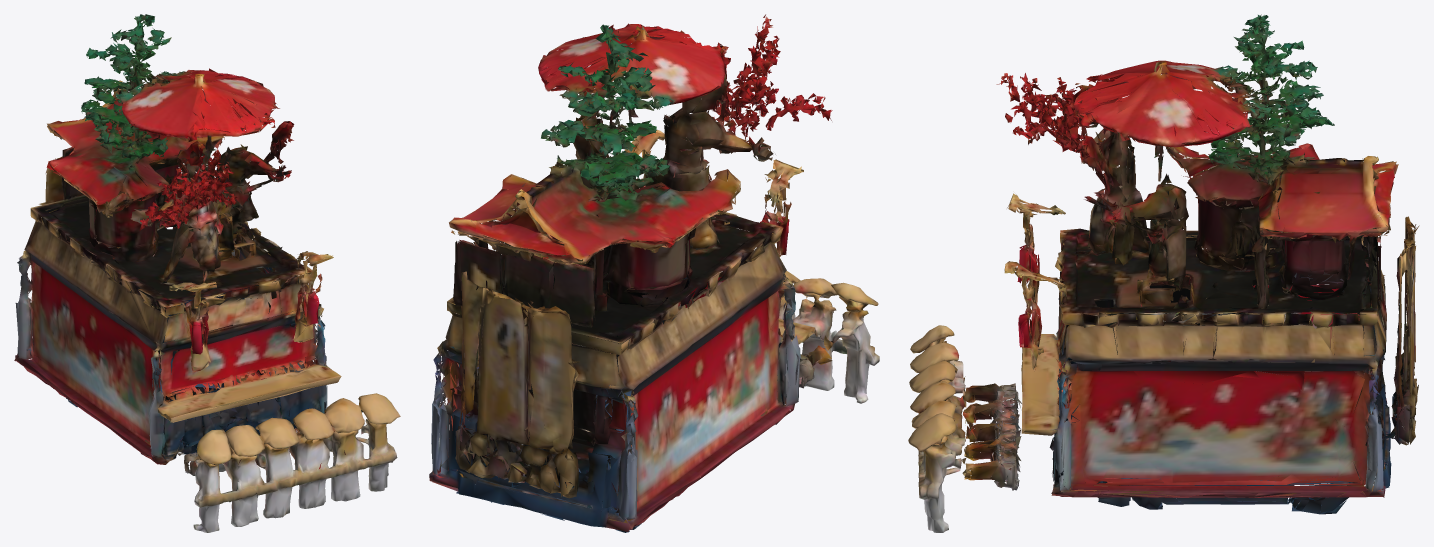
The model's file is 保昌山.glb.
The picture shows the model from 3 angles, left to right: view 1: azimuth 30°, elevation 25°; view 2: azimuth 150°, elevation 25°; view 3: azimuth 270°, elevation 25°; orthographic projection. The views are drawn at different scales.
Visible parts, largest first — view 1: Mesh1.0, Mesh1.001; view 2: Mesh1.0, Mesh1.001; view 3: Mesh1.0, Mesh1.001.
Boxes of the visible parts, x1,y1,x2,y2 form: Mesh1.0: (14,14,341,475); Mesh1.001: (193,393,400,532); Mesh1.0: (429,14,832,532); Mesh1.001: (723,270,879,403); Mesh1.0: (962,14,1419,514); Mesh1.001: (908,325,966,532).
Bounding box in the file's own units: 4.12 × 7.51 × 7.56.
1 material, 1 textured.
